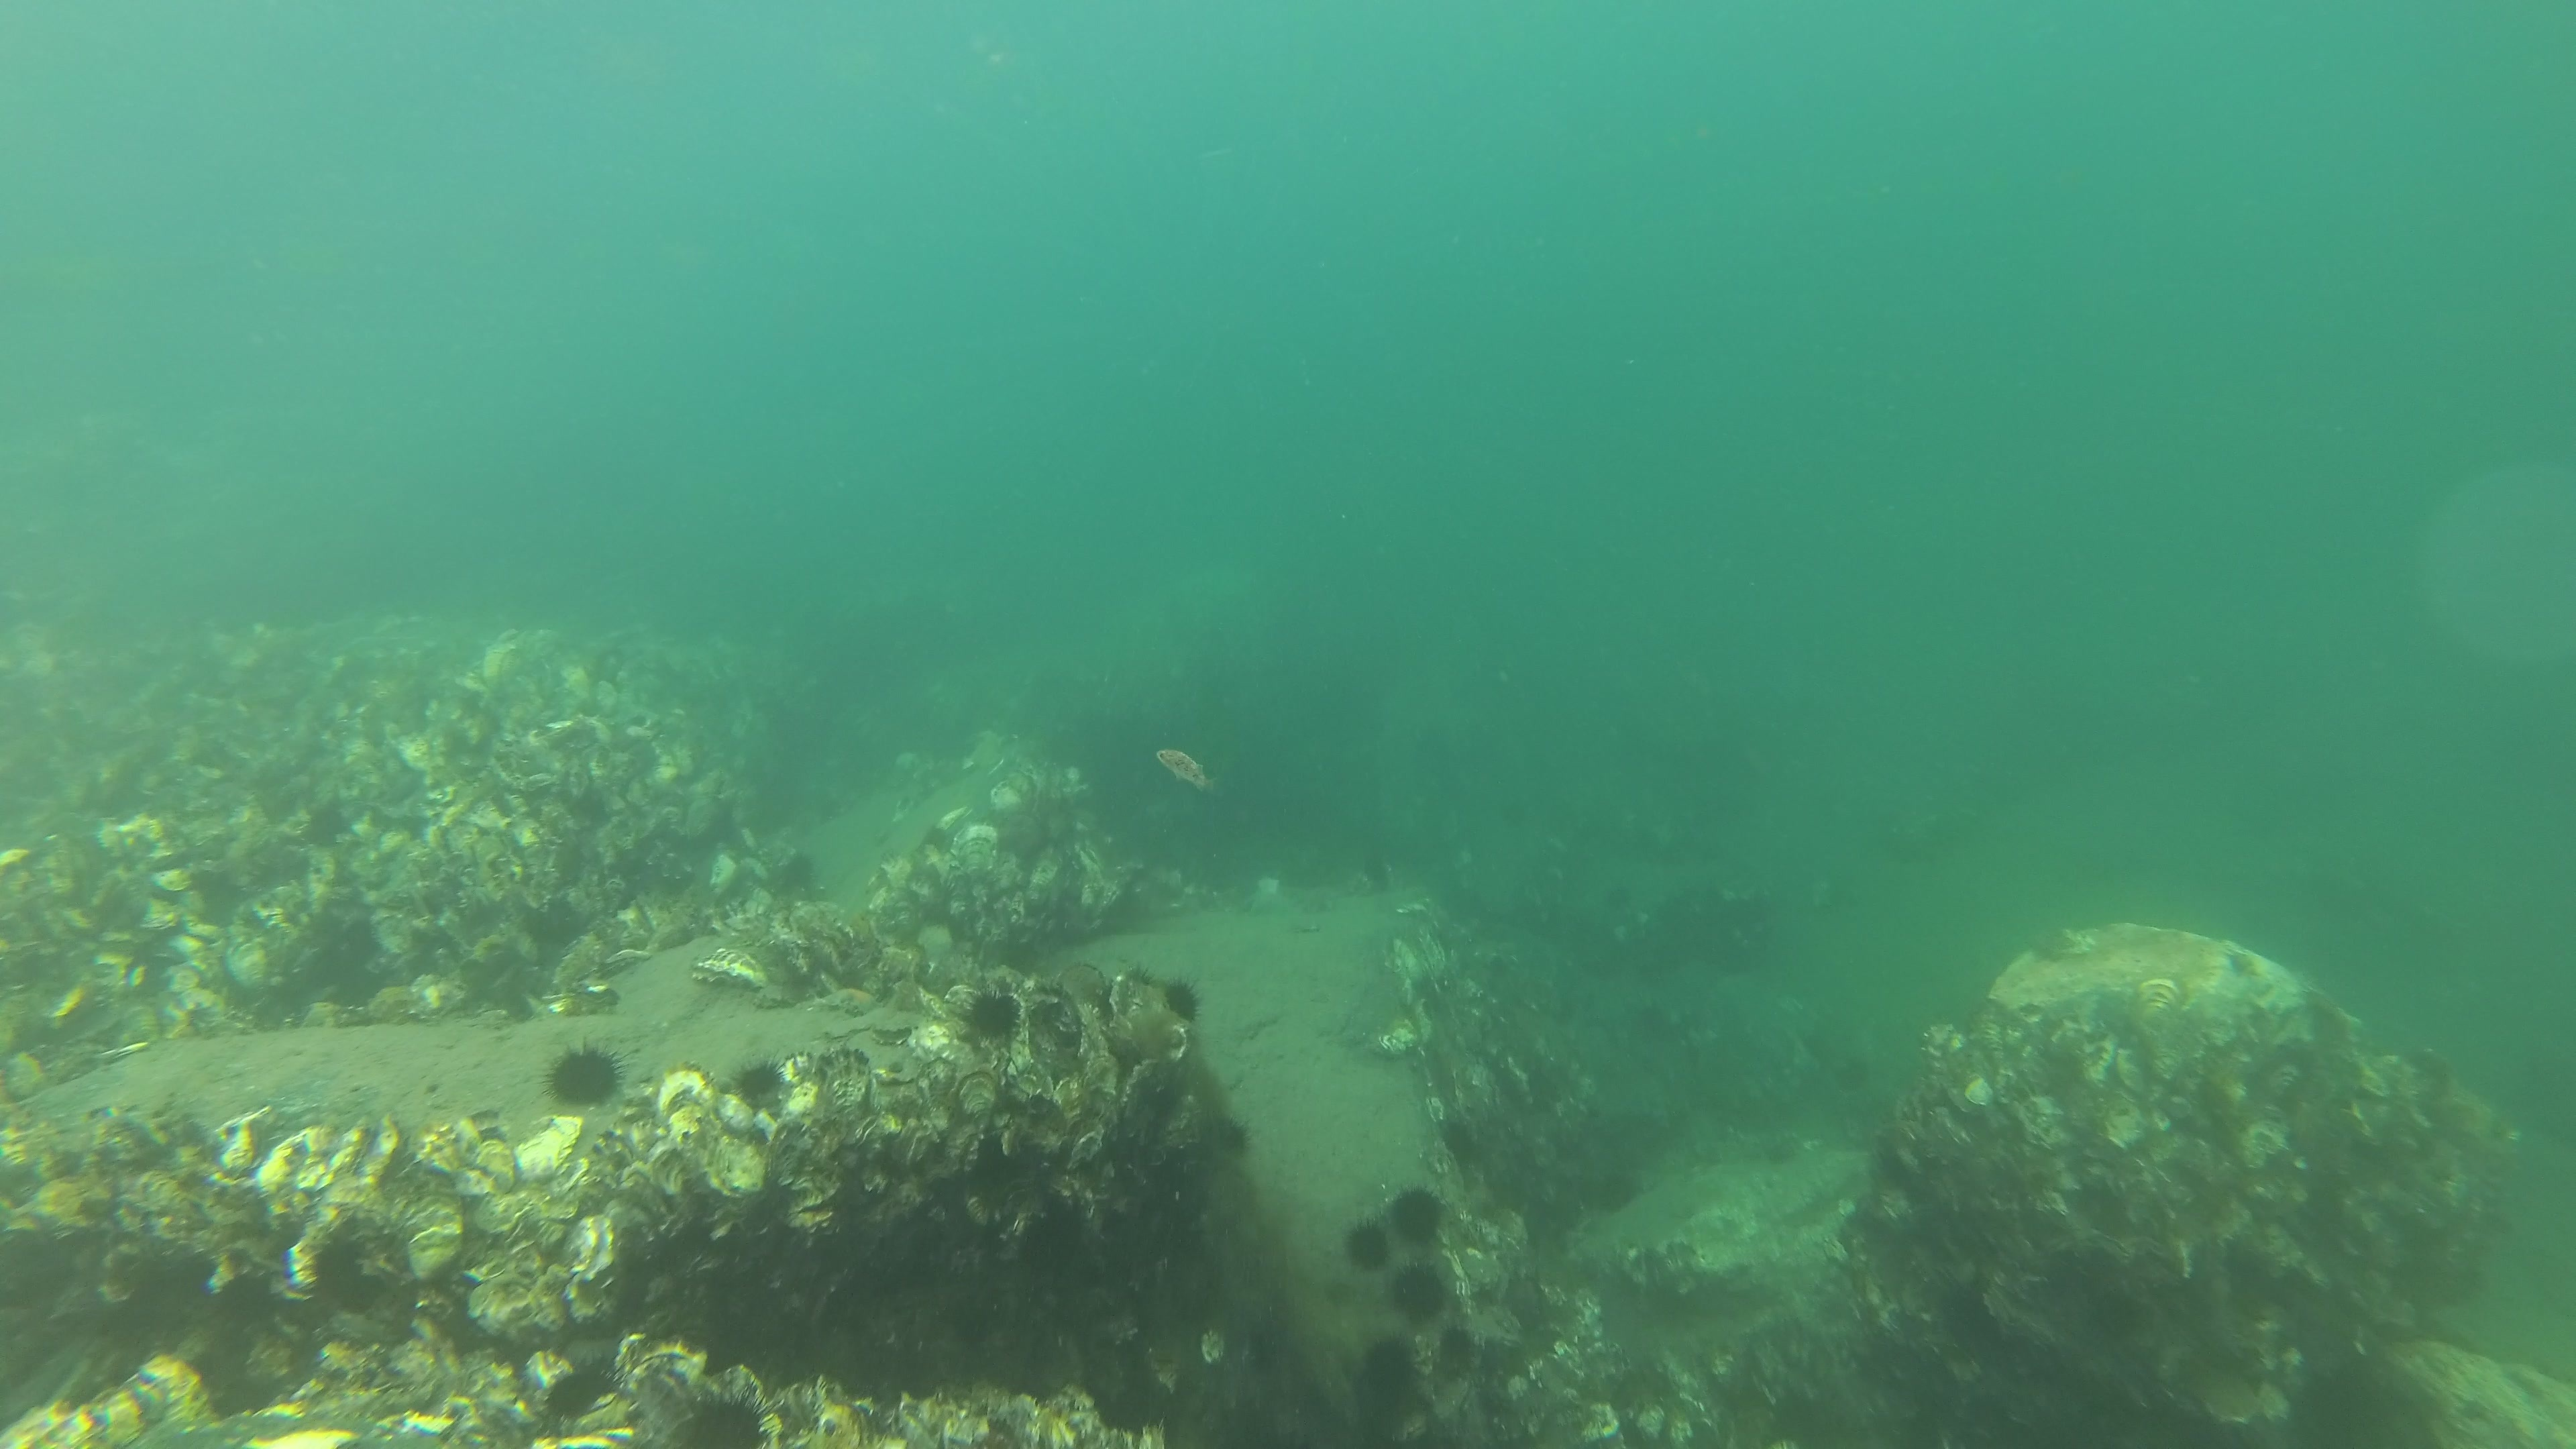echinus: (674, 1373, 791, 1449), (536, 1035, 633, 1113), (541, 1352, 630, 1431), (1385, 1260, 1456, 1325), (1387, 1180, 1449, 1249), (725, 1049, 791, 1108), (964, 989, 1028, 1046), (1345, 1214, 1392, 1277), (1362, 1336, 1419, 1387), (1157, 973, 1207, 1028), (778, 846, 821, 897), (1224, 1111, 1253, 1157)
